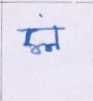anusvara: (39, 14, 42, 17)
